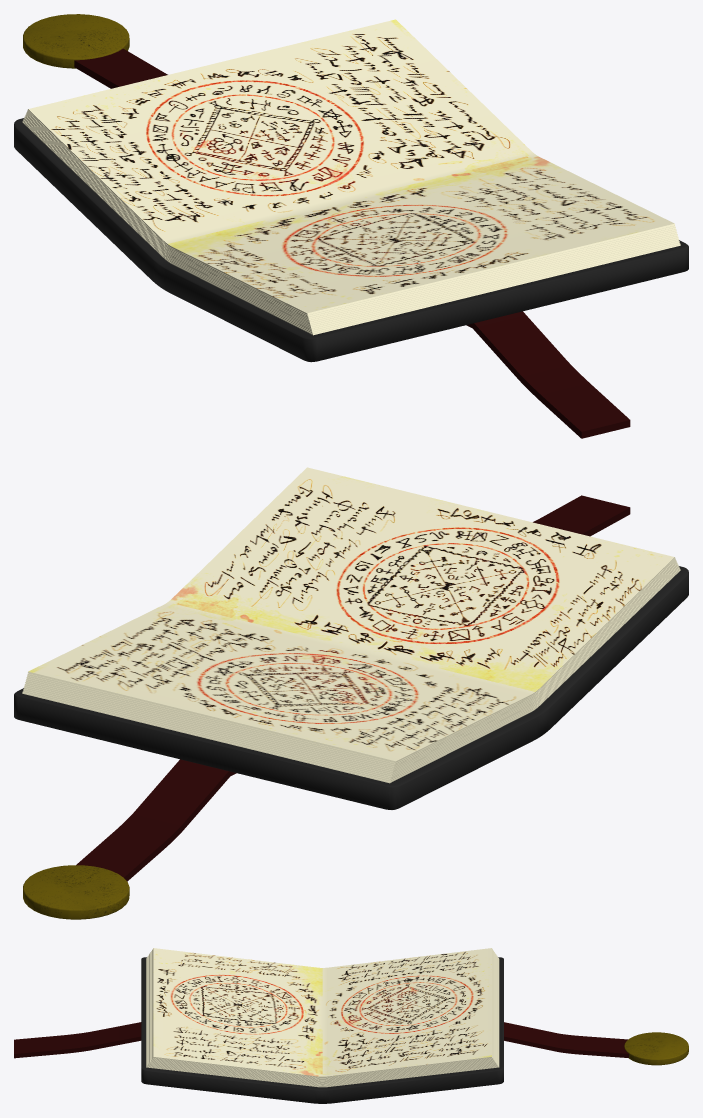
Rendered from RitualBookOpen.fbx.
3 views of the same model, one above another, from view 1: azimuth 30°, elevation 25°; view 2: azimuth 150°, elevation 25°; view 3: azimuth 270°, elevation 25° (orthographic). The views are drawn at different scales.
Parts seen in each view (by area): view 1: Paper, Book, Strap, Madallion; view 2: Paper, Book, Strap, Madallion; view 3: Paper, Book, Strap, Madallion.
Boxes of the visible parts, <box> form: Paper: <box>22,19,680,335</box>; Book: <box>14,118,688,362</box>; Strap: <box>74,48,630,438</box>; Madallion: <box>23,14,129,68</box>; Paper: <box>22,467,680,783</box>; Book: <box>14,566,688,809</box>; Strap: <box>76,495,630,881</box>; Madallion: <box>23,865,129,919</box>; Paper: <box>146,948,499,1087</box>; Book: <box>141,957,503,1103</box>; Strap: <box>14,1022,628,1058</box>; Madallion: <box>624,1032,688,1065</box>.
Size of the model in its own units: 716 by 147 by 1794.
